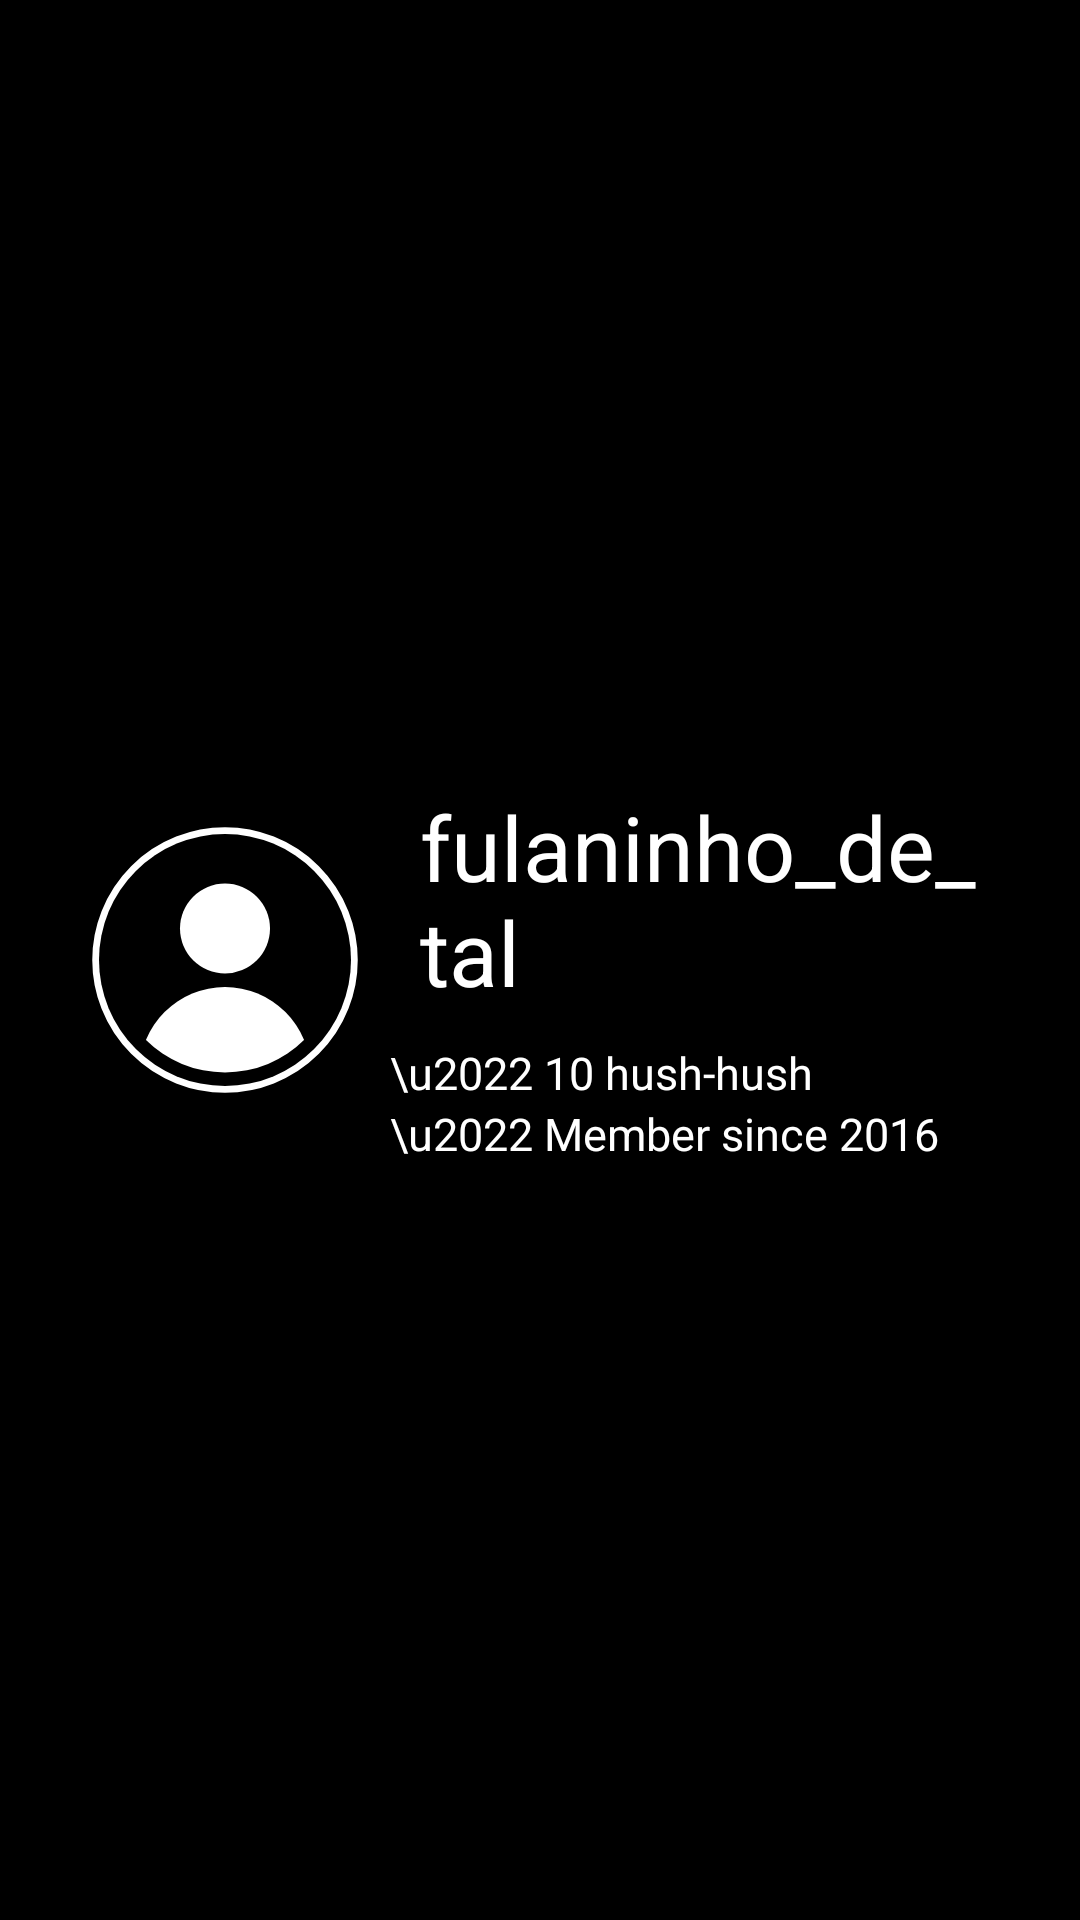

Point at icon controls on the screen. Image size 1080*1920, points as (x=x, y=y).
profile: (x=225, y=960)
